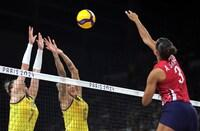ballon_volley: (76, 9, 96, 29)
